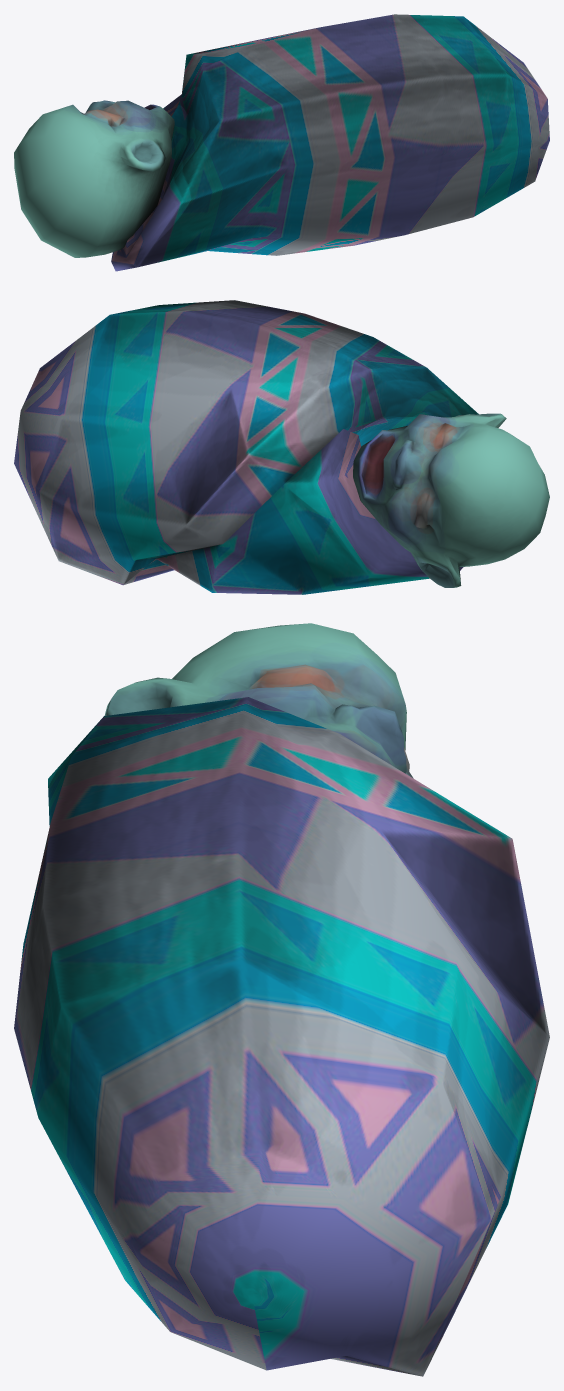
File: baby1.FBX
The picture shows the model from 3 angles, top to bottom: view 1: azimuth 30°, elevation 25°; view 2: azimuth 150°, elevation 25°; view 3: azimuth 270°, elevation 25°; orthographic projection. The views are drawn at different scales.
Parts seen in each view (by area): view 1: Baby01; view 2: Baby01; view 3: Baby01.
Boxes of the visible parts, <box> form: Baby01: <box>14,14,549,271</box>; Baby01: <box>14,300,549,594</box>; Baby01: <box>14,623,549,1376</box>.
Bounding box in the file's own units: 69.31 × 30.64 × 31.99.
